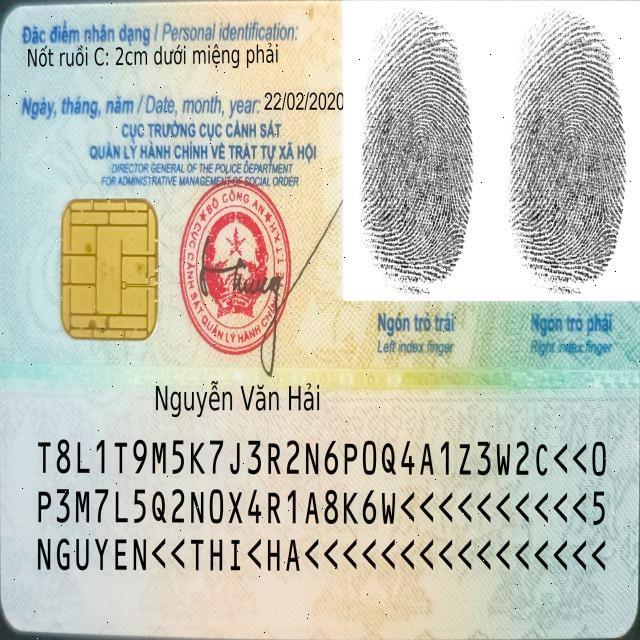features: (26, 42, 282, 70)
finger_print: (344, 0, 487, 363), (496, 2, 640, 361)
issue_date: (262, 85, 344, 116)
